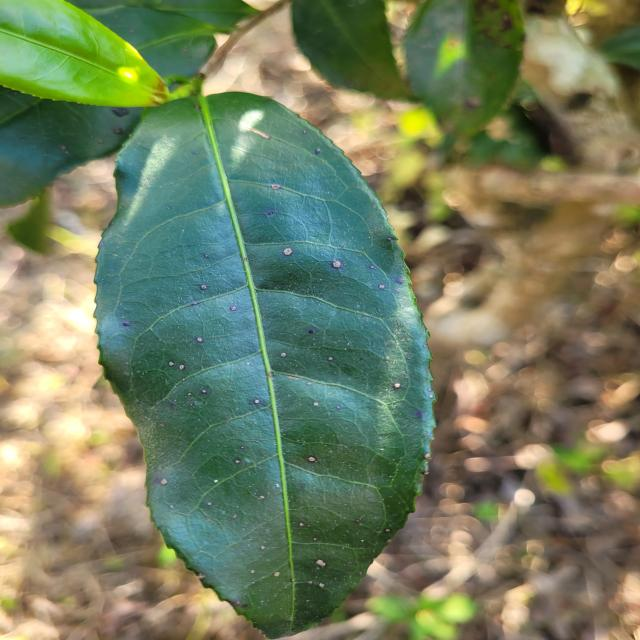Category D(7+ days, Not for Tea): (81, 73, 446, 640)
